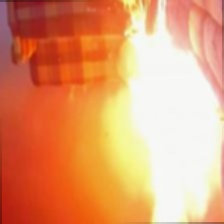fire: (108, 10, 224, 224)
